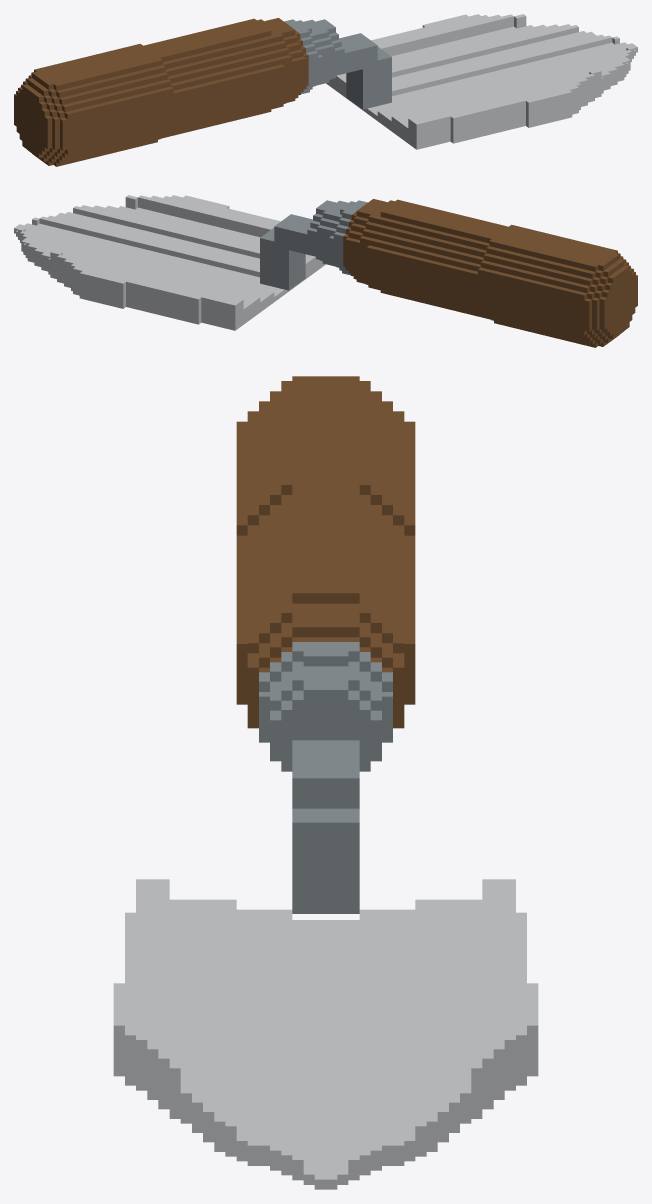
The model's file is trowel.glb.
3 renders of one model, top to bottom at view 1: azimuth 30°, elevation 25°; view 2: azimuth 150°, elevation 25°; view 3: azimuth 270°, elevation 25°, orthographic. The views are drawn at different scales.
Parts seen in each view (by area): view 1: trowel:compound; view 2: trowel:compound; view 3: trowel:compound.
Boxes of the visible parts, x1,y1,x2,y2 form: trowel:compound: (14,14,637,166); trowel:compound: (14,195,637,347); trowel:compound: (113,376,538,1189).
Bounding box in the file's own units: 0.25 × 0.046 × 0.076.
